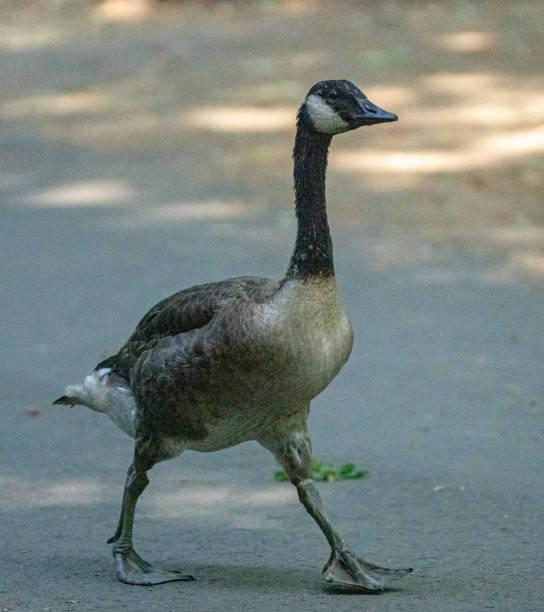Canadian-Goose: (46, 73, 418, 600)
